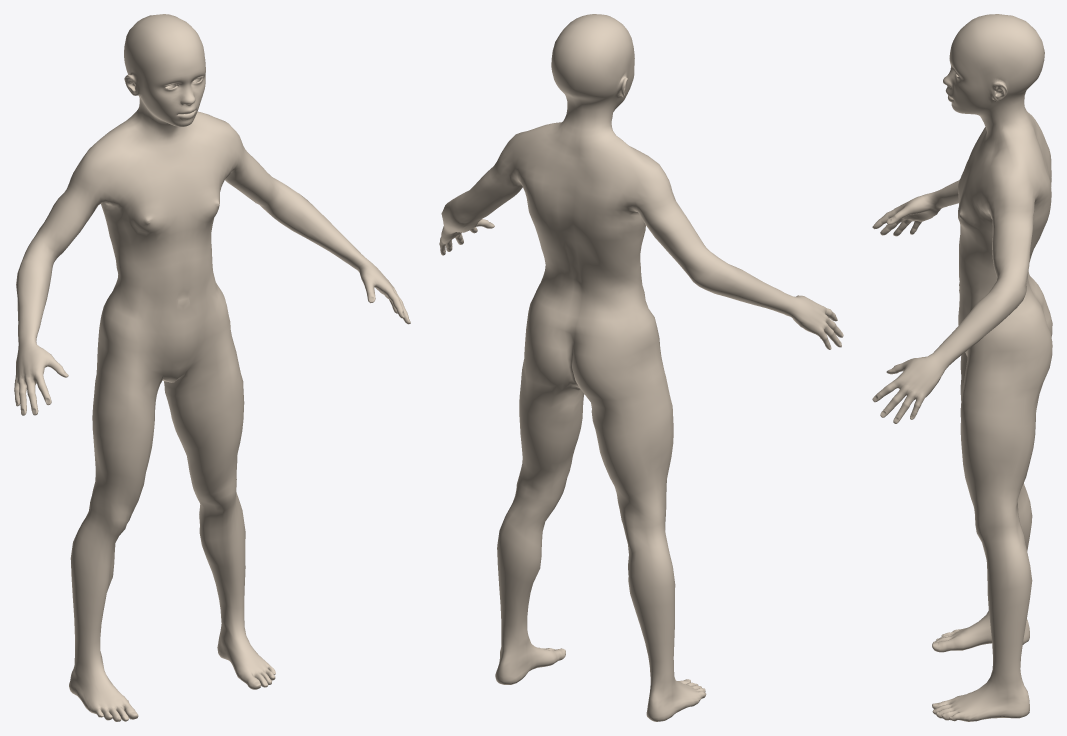
3 views of the same model, side by side, from view 1: azimuth 30°, elevation 25°; view 2: azimuth 150°, elevation 25°; view 3: azimuth 270°, elevation 25° (orthographic).
Visible parts, largest first — view 1: Human; view 2: Human; view 3: Human.
Part boxes in pixels (x1,y1,x2,y2): Human: [14, 14, 410, 721]; Human: [439, 14, 843, 721]; Human: [872, 14, 1052, 721].
Bounding box in the file's own units: 0.9779 × 1.6 × 0.3937.
